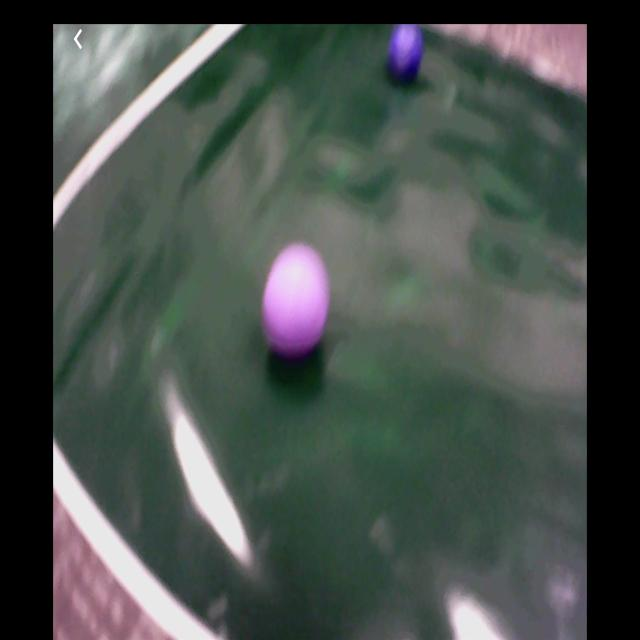ball: (265, 249, 330, 356), (389, 27, 426, 84)
